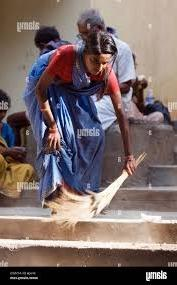Human: (15, 12, 133, 223)
